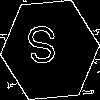S: (25, 25, 59, 74)
